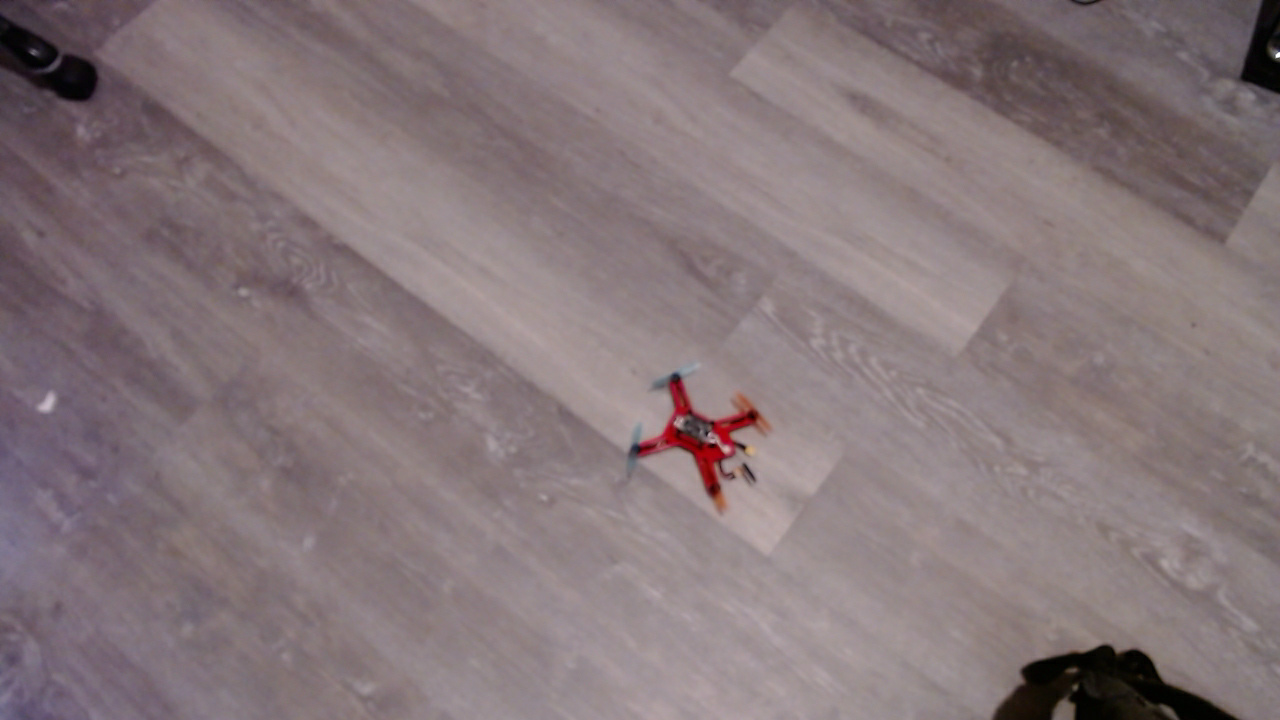crazyflie: (624, 364, 788, 521)
